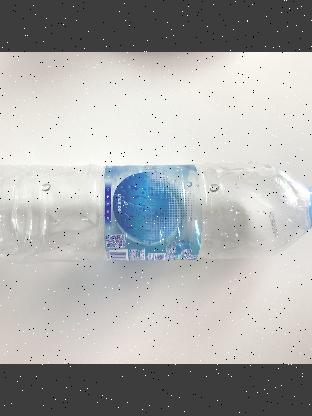Plastic Bottle: (0, 159, 312, 264)
